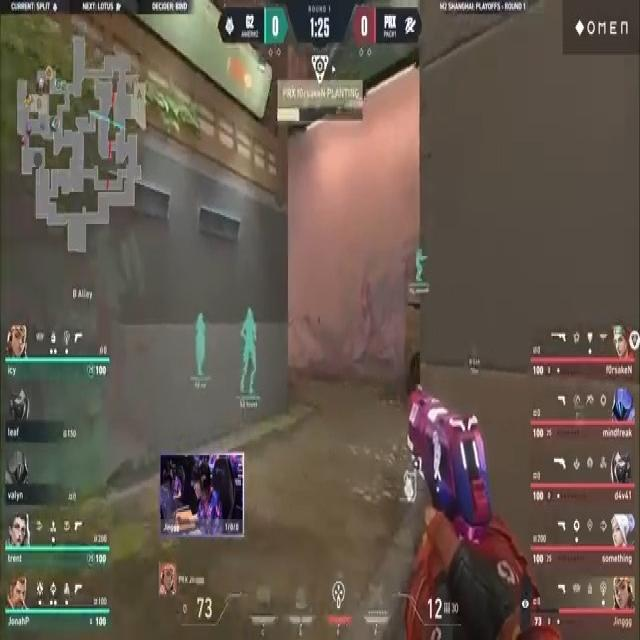ally behind wall: (242, 307, 258, 402), (195, 311, 208, 380), (414, 244, 429, 284)
